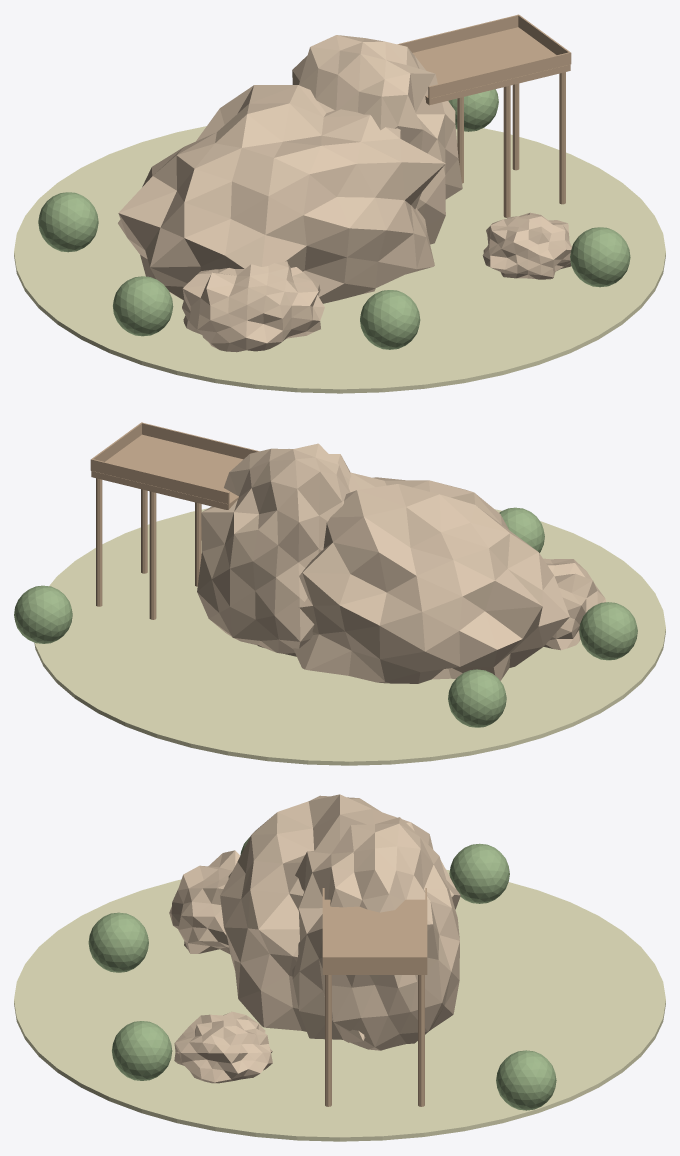
The model's file is lion-rock.glb.
3 renders of one model, top to bottom at view 1: azimuth 30°, elevation 25°; view 2: azimuth 150°, elevation 25°; view 3: azimuth 270°, elevation 25°, orthographic. The views are drawn at different scales.
Visible parts, largest first — view 1: lion-rock-0, lion-rock-1, lion-rock-2, lion-rock-3, lion-rock-5, lion-rock-4, lion-rock-14, lion-rock-13, lion-rock-15, lion-rock-16, lion-rock-7, lion-rock-6 (+5 smaller); view 2: lion-rock-0, lion-rock-1, lion-rock-2, lion-rock-5, lion-rock-3, lion-rock-13, lion-rock-14, lion-rock-17, lion-rock-6, lion-rock-7, lion-rock-16, lion-rock-9 (+4 smaller); view 3: lion-rock-0, lion-rock-2, lion-rock-1, lion-rock-5, lion-rock-4, lion-rock-3, lion-rock-16, lion-rock-15, lion-rock-17, lion-rock-13, lion-rock-8, lion-rock-11 (+1 smaller).
Boxes of the visible parts, x1,y1,x2,y2 form: lion-rock-0: (14,126,665,393); lion-rock-1: (118,85,445,303); lion-rock-2: (292,35,462,244); lion-rock-3: (182,261,324,352); lion-rock-5: (413,27,570,105); lion-rock-4: (482,212,571,279); lion-rock-14: (113,276,173,336); lion-rock-13: (38,192,98,252); lion-rock-15: (570,227,630,287); lion-rock-16: (360,290,420,349); lion-rock-7: (428,52,569,98); lion-rock-6: (397,15,518,52); lion-rock-0: (34,508,665,765); lion-rock-1: (293,472,569,683); lion-rock-2: (197,443,351,656); lion-rock-5: (91,434,243,509); lion-rock-3: (543,558,605,650); lion-rock-13: (448,669,506,727); lion-rock-14: (579,602,637,660); lion-rock-17: (14,585,72,643); lion-rock-6: (92,459,229,504); lion-rock-7: (142,422,259,459); lion-rock-16: (499,507,544,552); lion-rock-9: (149,491,156,619); lion-rock-0: (14,869,665,1141); lion-rock-2: (292,817,459,1050); lion-rock-1: (220,794,460,1042); lion-rock-5: (322,899,427,974); lion-rock-4: (174,1011,272,1083); lion-rock-3: (169,850,239,954); lion-rock-16: (88,912,148,972); lion-rock-15: (112,1021,172,1080); lion-rock-17: (496,1050,556,1110); lion-rock-13: (449,843,509,903); lion-rock-8: (322,956,427,968); lion-rock-11: (418,975,424,1106).
Bounding box in the file's own units: 56 × 23.49 × 56.
